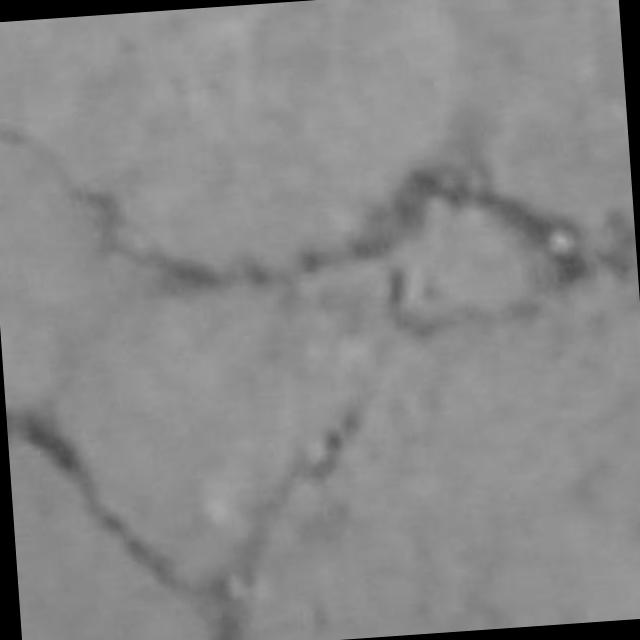crack: (0, 126, 611, 292), (7, 412, 185, 591)
